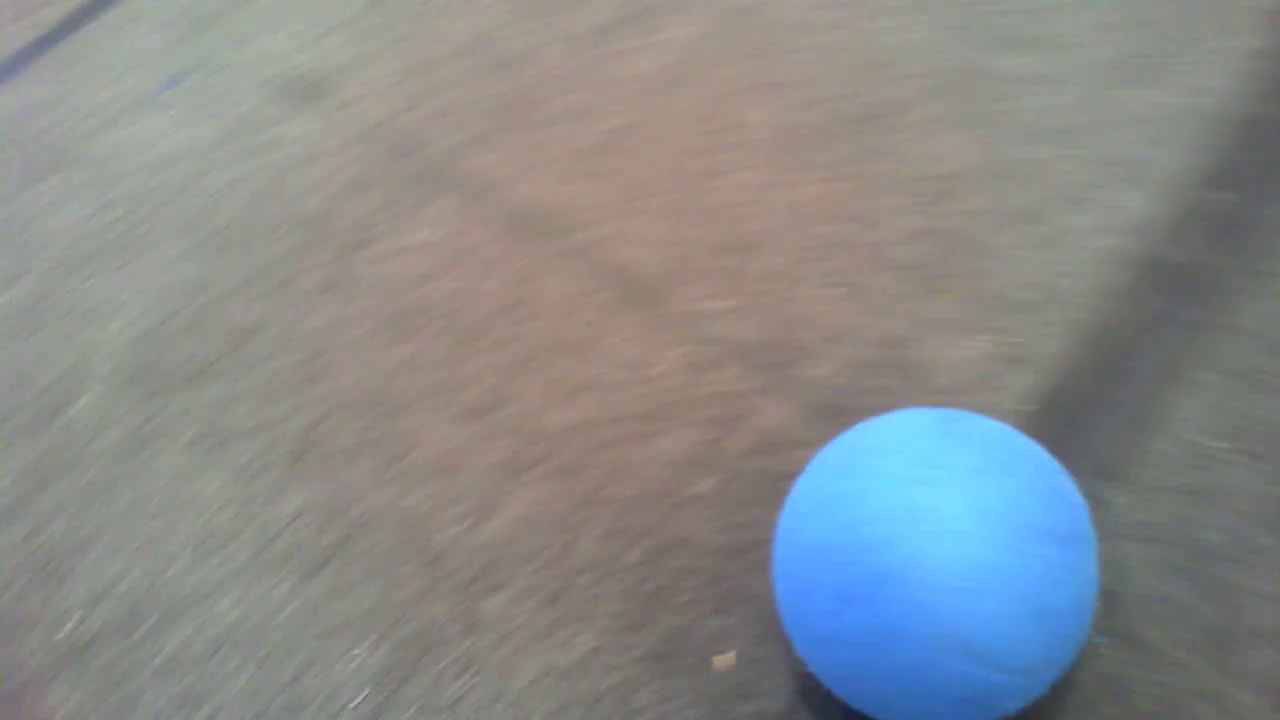blue_cargo: (771, 410, 1117, 713)
